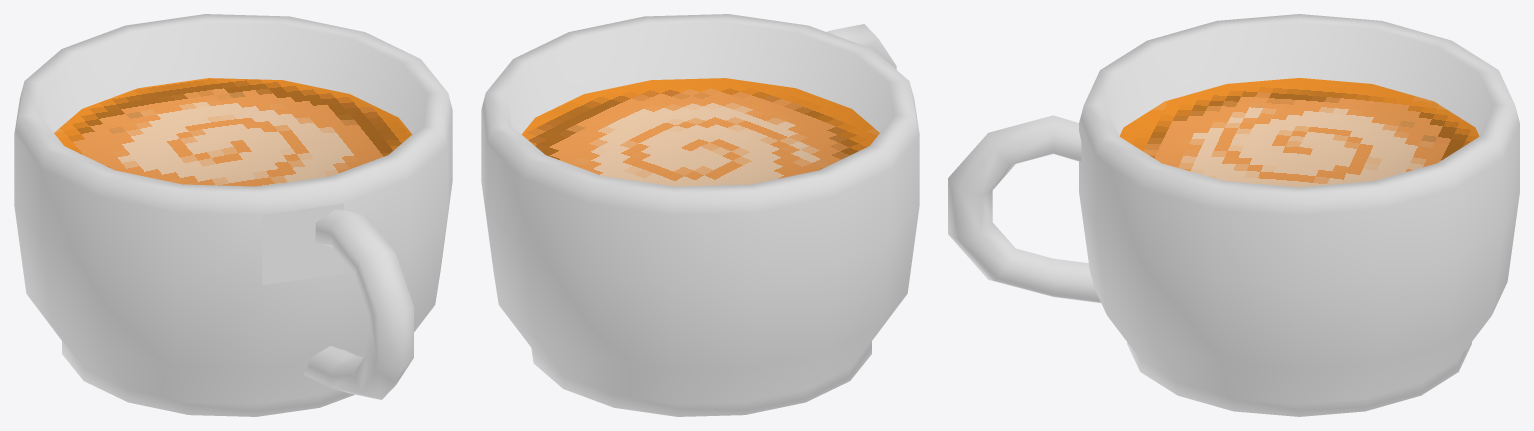
Rendered from coffee.gltf.
The picture shows the model from 3 angles, left to right: view 1: azimuth 30°, elevation 25°; view 2: azimuth 150°, elevation 25°; view 3: azimuth 270°, elevation 25°; orthographic projection.
Visible parts, largest first — view 1: Cylinder; view 2: Cylinder; view 3: Cylinder.
Boxes of the visible parts, x1,y1,x2,y2 form: Cylinder: [14, 14, 452, 416]; Cylinder: [481, 14, 919, 416]; Cylinder: [948, 14, 1519, 416].
Bounding box in the file's own units: 2.04 × 1.22 × 2.65.
Materials: 2 (1 with a texture image).
